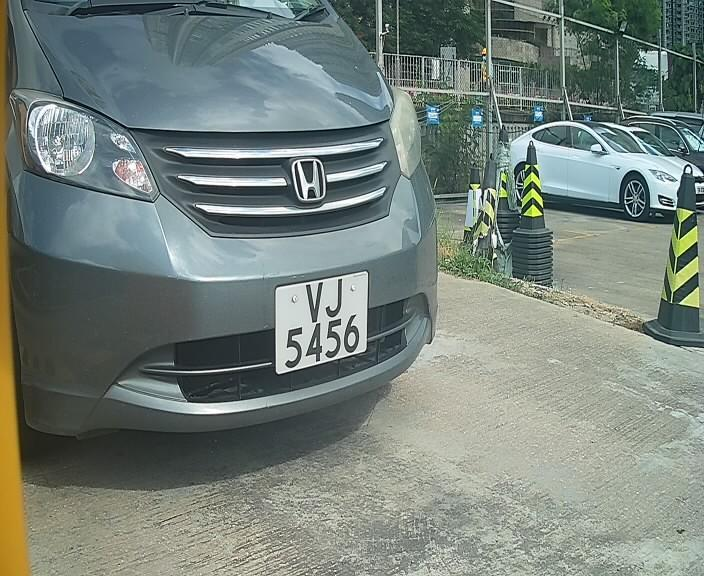License Plate: (265, 268, 375, 379)
